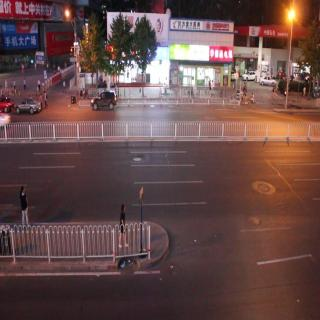Car: (89, 88, 120, 111), (18, 94, 43, 118), (0, 86, 15, 119)
